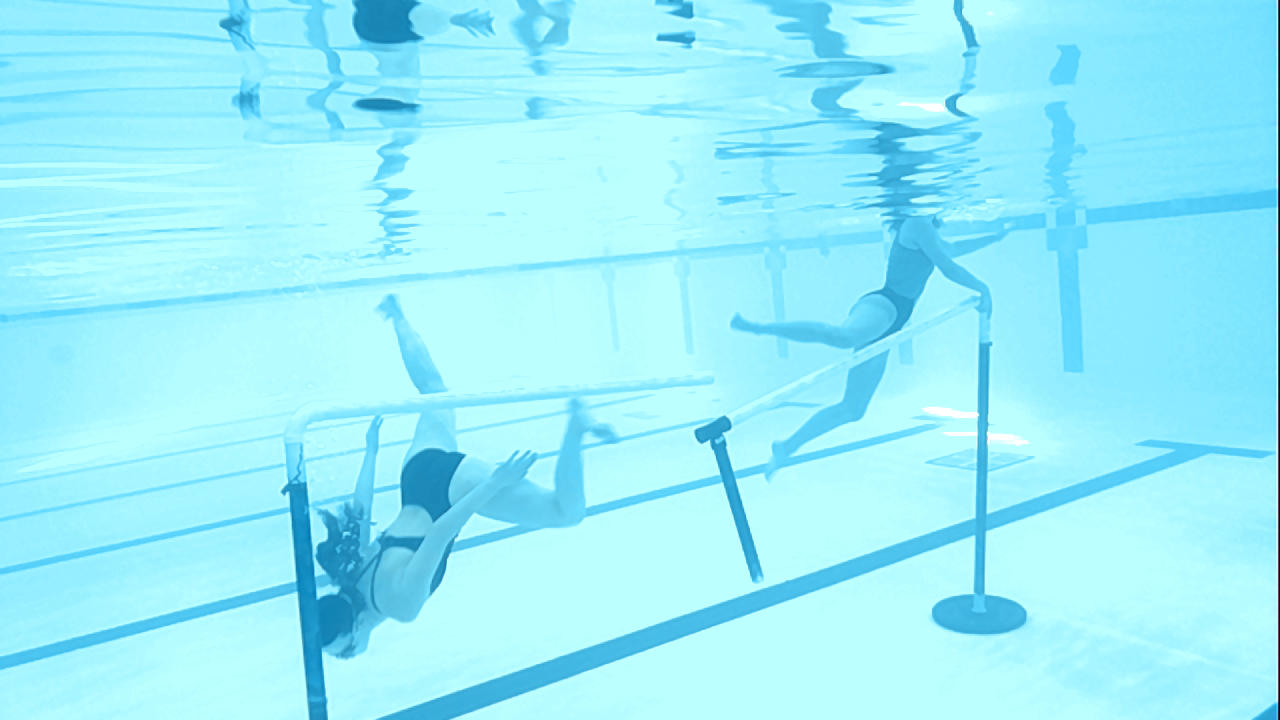gate_leg_center: (693, 412, 766, 583)
gate_leg_r: (976, 337, 996, 613)
